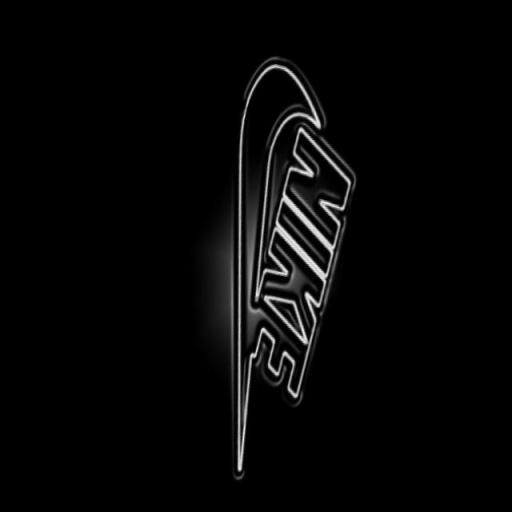Nike: (151, 42, 346, 478), (226, 120, 364, 405)
